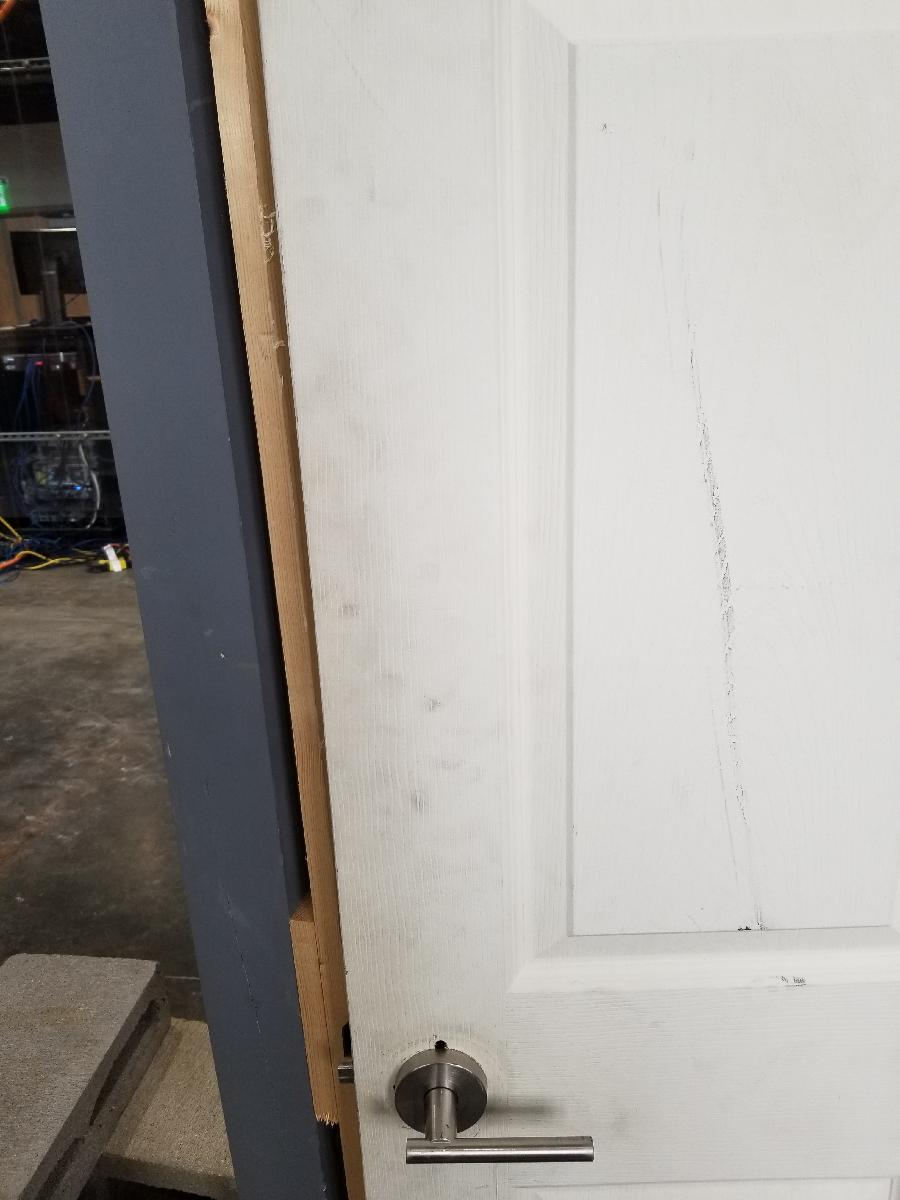doorHandle: (385, 1040, 604, 1171)
